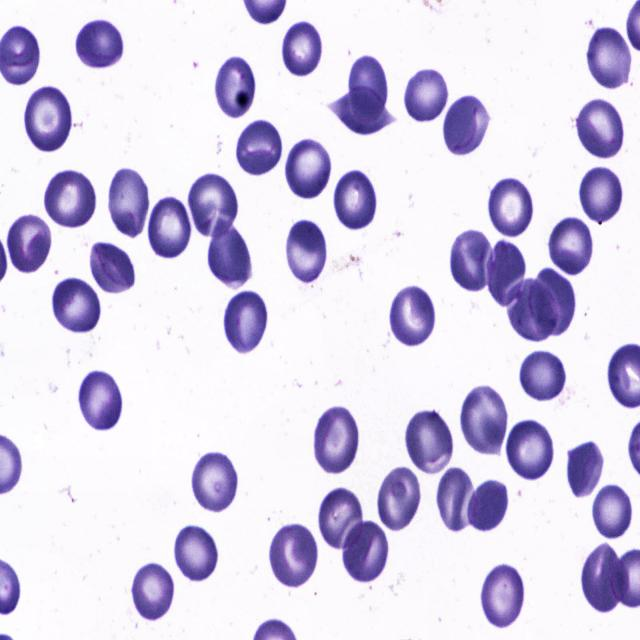red blood cell: (326, 83, 395, 138), (312, 403, 363, 477), (270, 520, 320, 591), (459, 385, 508, 457), (506, 278, 560, 343), (579, 541, 626, 613), (530, 265, 576, 338), (24, 87, 74, 154), (404, 409, 454, 476), (442, 92, 492, 158), (187, 172, 237, 238), (43, 169, 98, 228), (207, 217, 252, 289), (224, 286, 270, 356), (486, 175, 537, 238), (284, 137, 334, 201), (342, 518, 390, 584), (190, 452, 241, 514), (389, 284, 437, 349), (50, 276, 101, 337), (575, 98, 625, 160), (346, 53, 392, 120), (109, 168, 151, 241), (481, 561, 525, 630), (376, 466, 422, 532), (506, 419, 554, 482), (317, 487, 364, 551), (6, 212, 54, 274), (130, 562, 178, 624), (78, 369, 125, 432), (146, 197, 192, 261), (174, 522, 220, 586), (74, 15, 126, 70), (586, 27, 632, 89), (449, 230, 495, 292), (578, 164, 624, 226), (235, 118, 284, 176), (333, 169, 378, 232), (213, 55, 258, 117), (519, 347, 568, 403), (403, 67, 451, 124), (548, 217, 594, 276), (488, 236, 527, 305), (89, 240, 137, 295), (437, 466, 477, 531), (467, 476, 511, 533), (565, 439, 606, 500), (592, 482, 634, 540), (282, 20, 324, 77)
ring: (286, 218, 327, 284)
